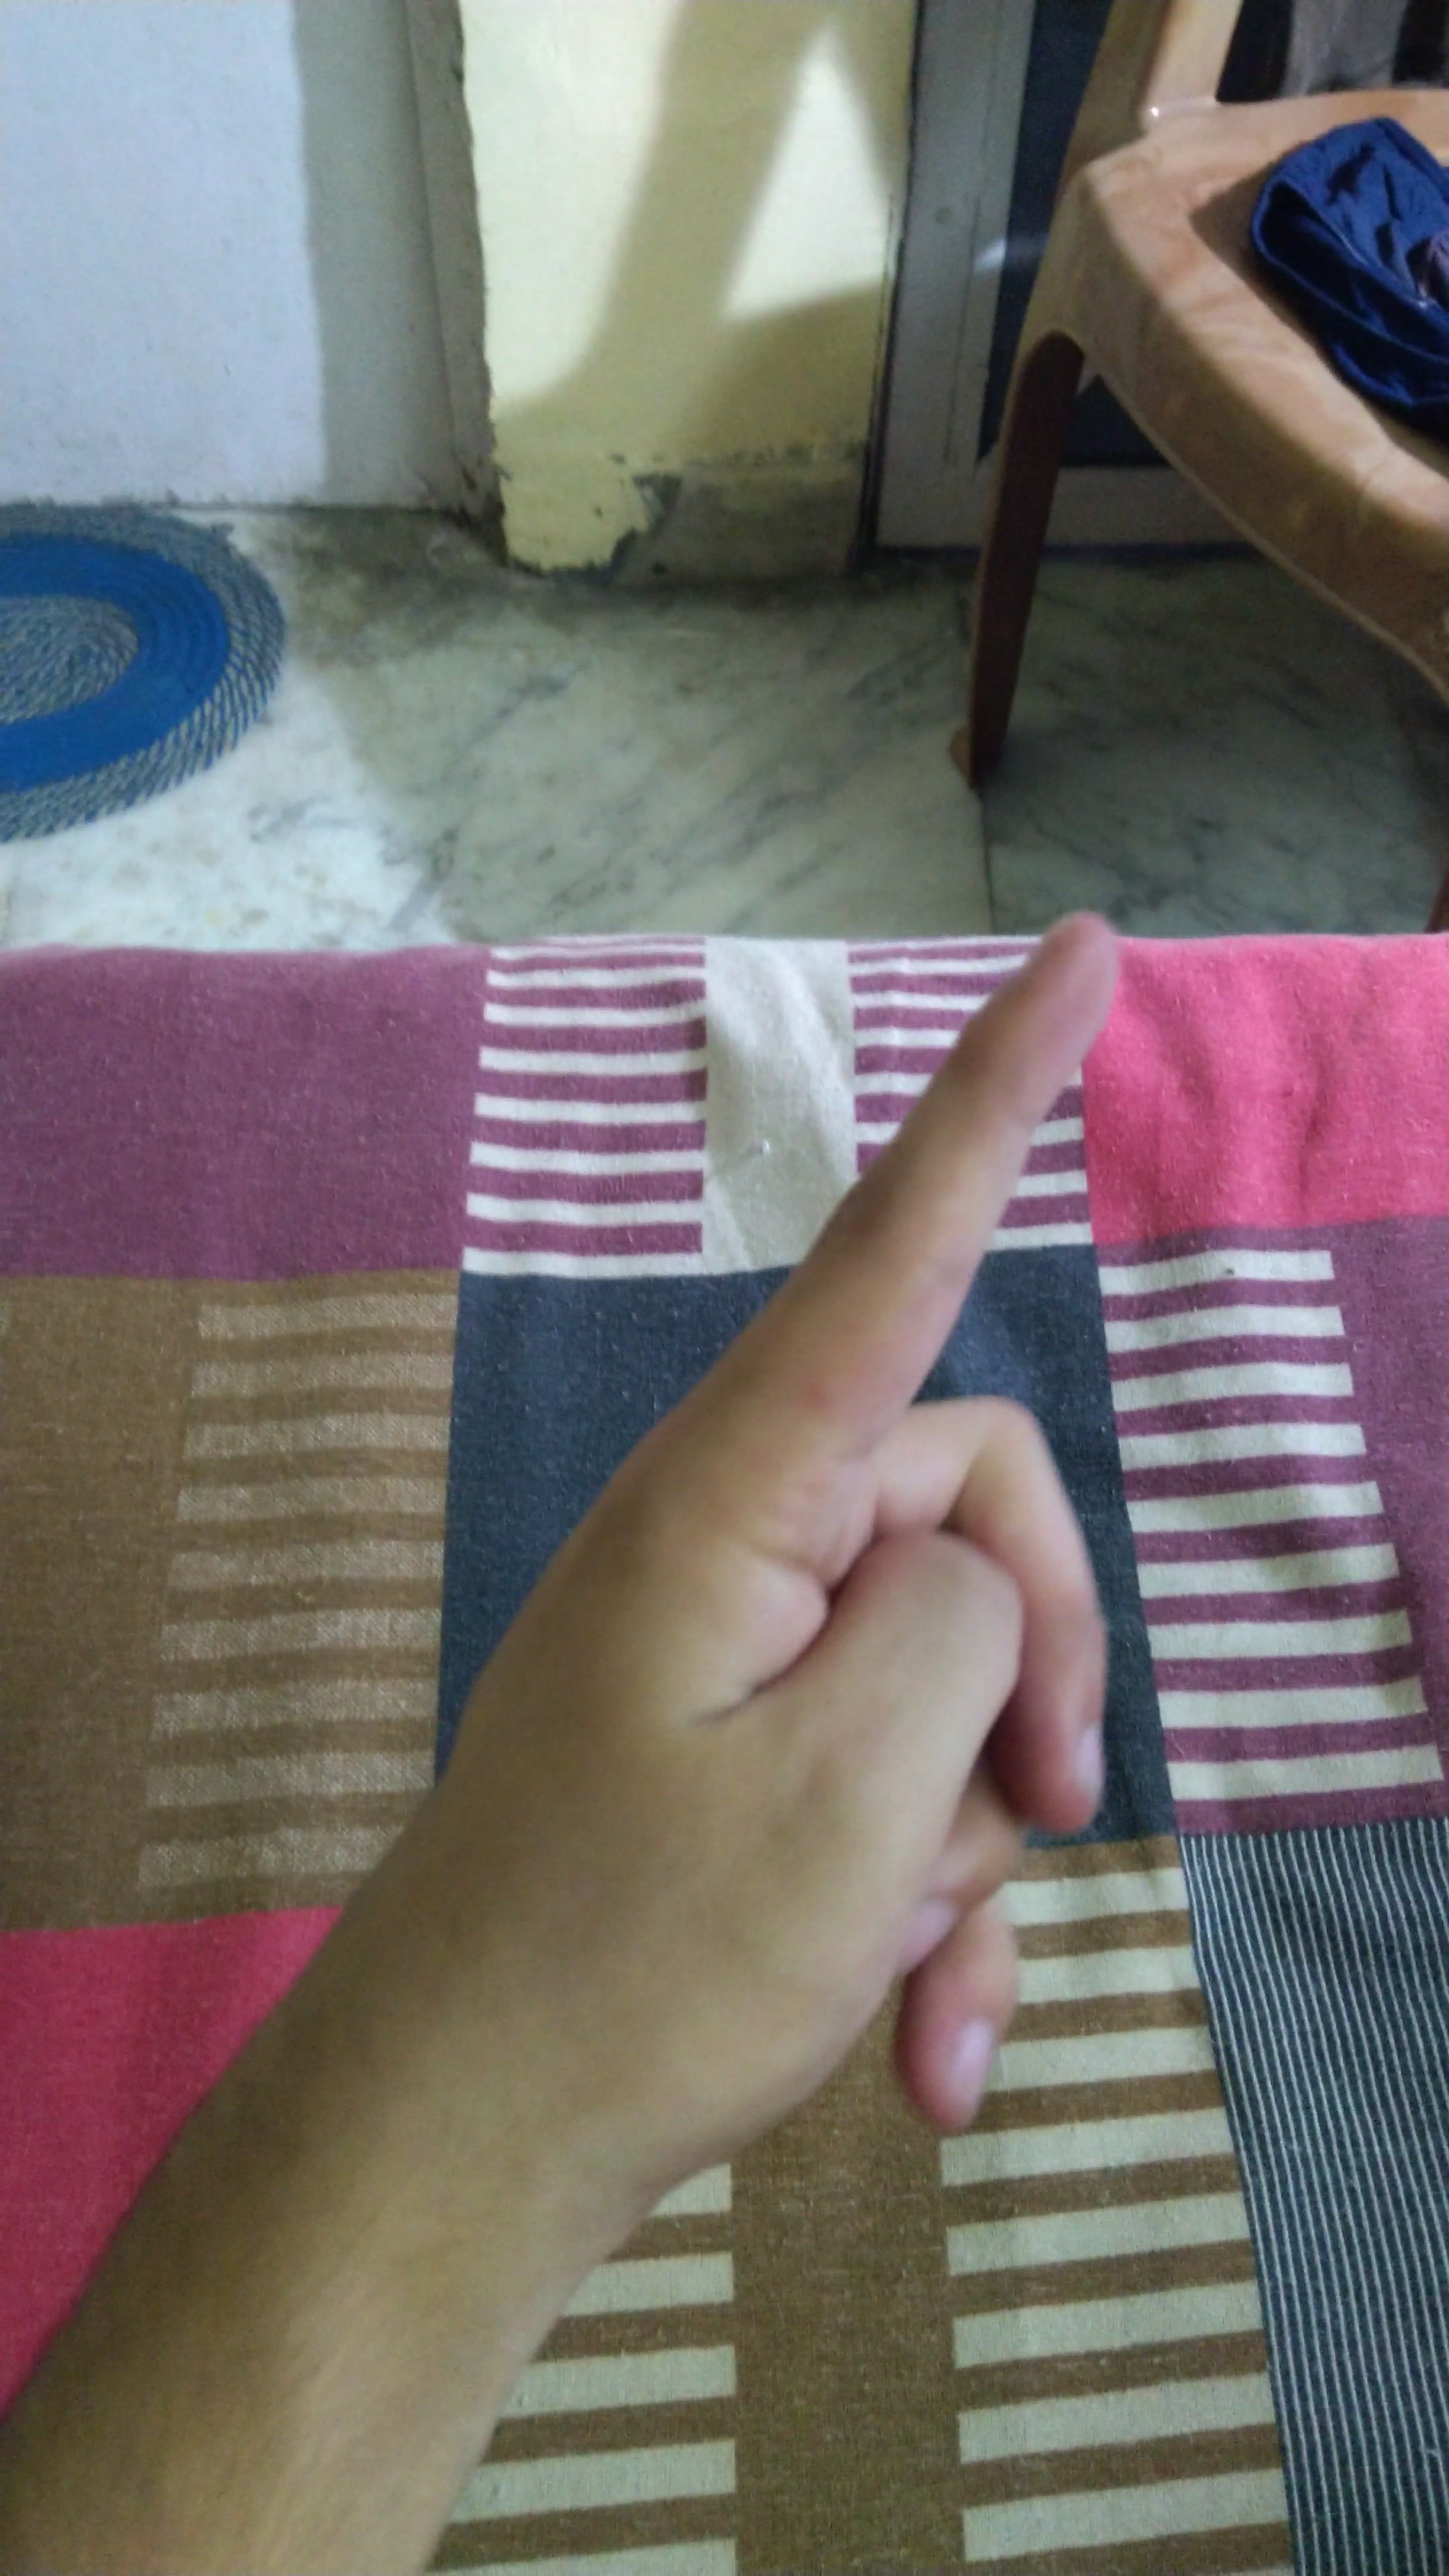hand: (308, 870, 1217, 2247)
